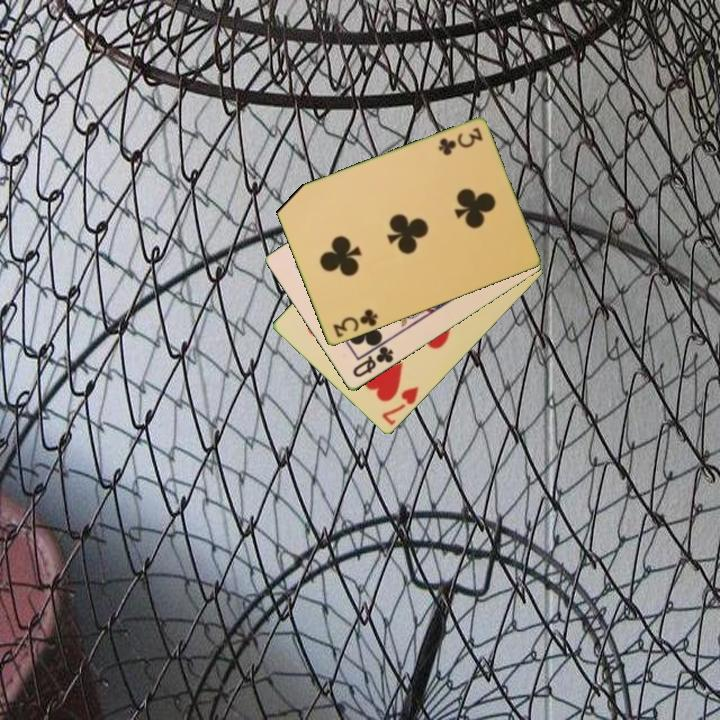3c: (329, 306, 380, 341), (434, 124, 485, 158)
7h: (378, 383, 422, 428)
Qc: (349, 343, 397, 381)
